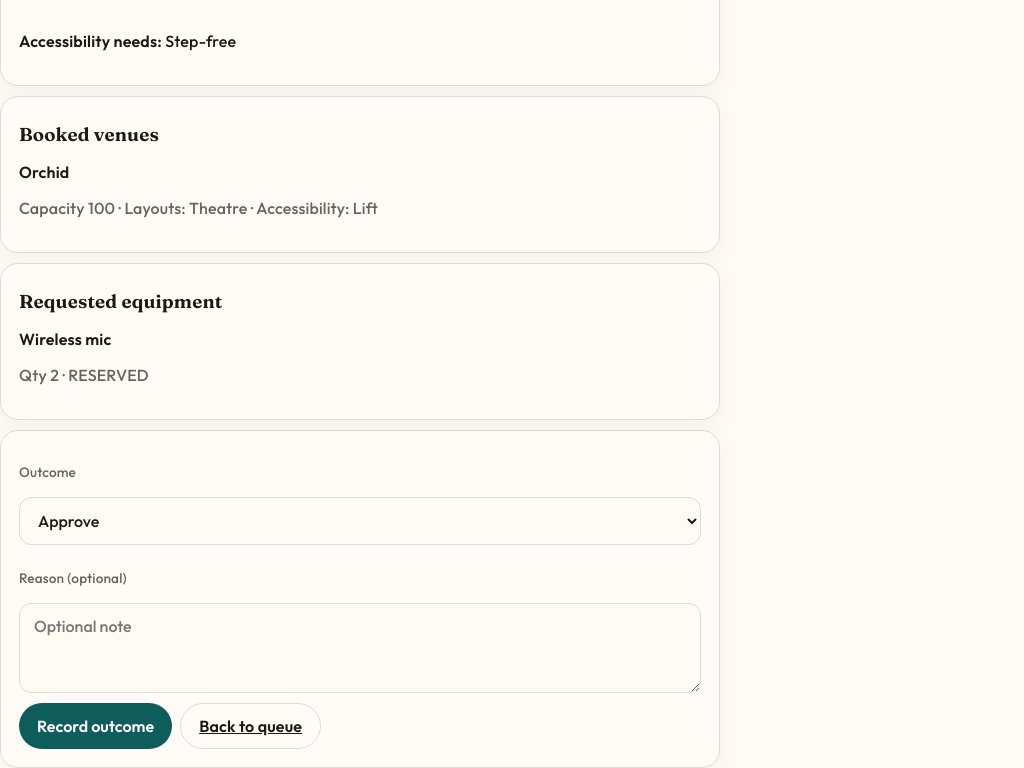
Test: SCRUM-55 / SCRUM-56 safety check page › shows review details and lets a Safety Officer approve
(page scrolled)
Expected: the text "Capacity 100 · Layouts: Theatre · Accessibility: Lift" is shown, [19,198,378,218]
Expected: the text "Wireless mic" is shown, [19,329,112,349]
Select "Approve" in the dropdown labelled "Outcome" at (360,521), box [19,497,701,545]
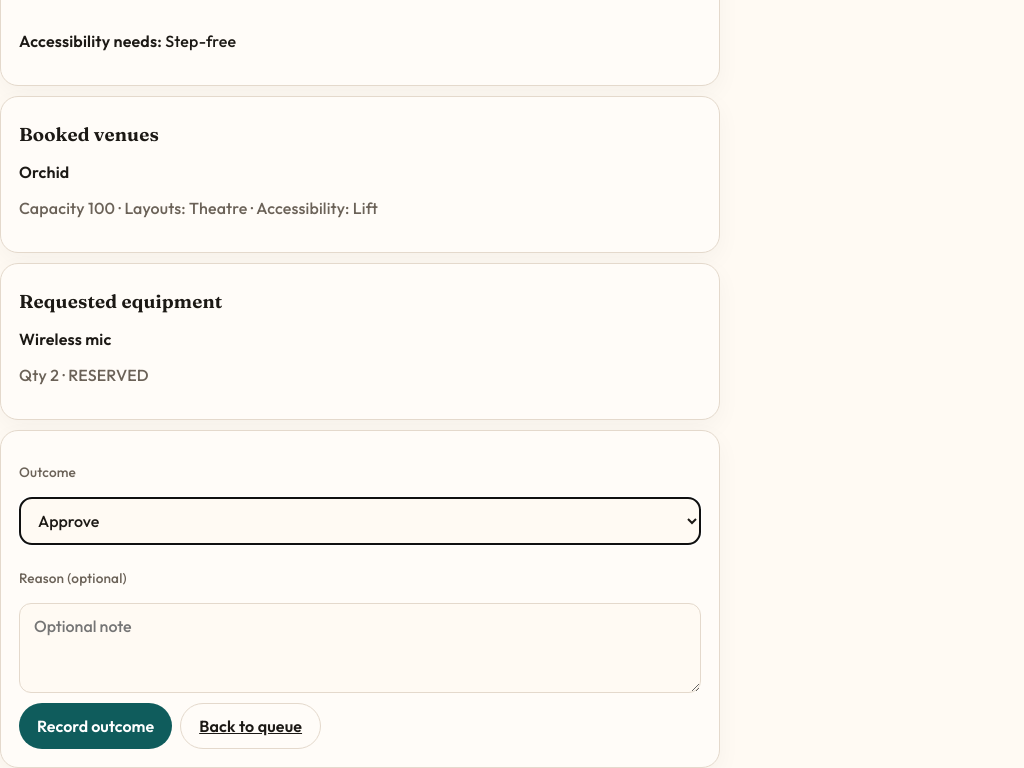
Click the button "Record outcome" at (96,726), box [19,703,172,749]
(page scrolled)
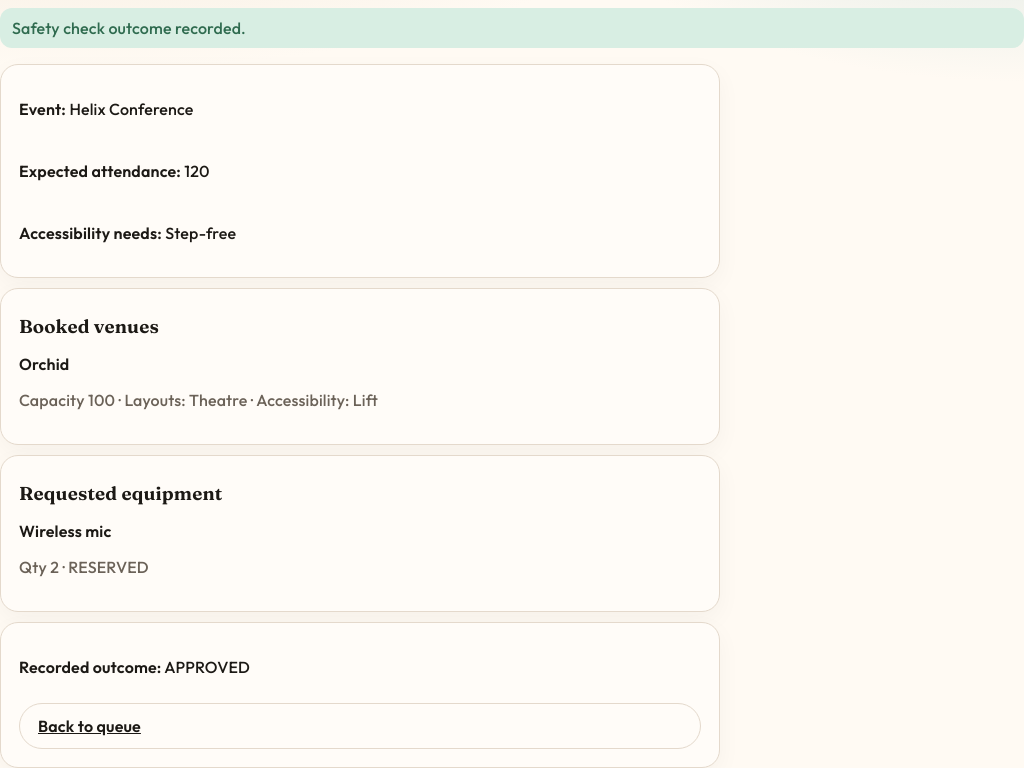
Expected: the text "Safety check outcome recorded." is shown, [0,8,1023,48]
